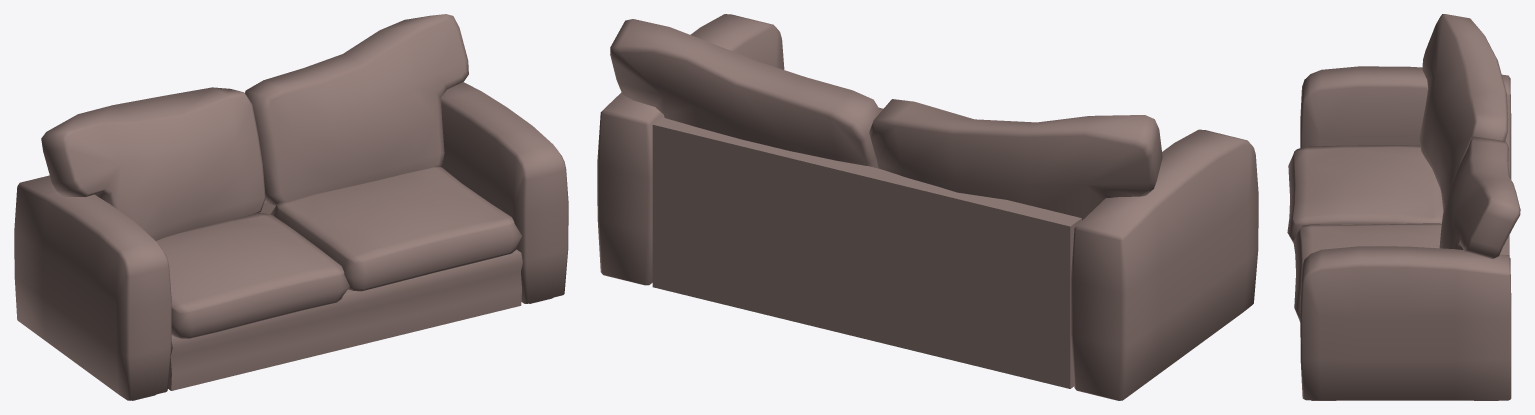
Rendered from sofa.glb.
The picture shows the model from 3 angles, left to right: view 1: azimuth 30°, elevation 25°; view 2: azimuth 150°, elevation 25°; view 3: azimuth 270°, elevation 25°; orthographic projection. The views are drawn at different scales.
Visible parts, largest first — view 1: mesh_10_228.nr; view 2: mesh_10_228.nr; view 3: mesh_10_228.nr.
Boxes of the visible parts, left/top/right/bottom form: mesh_10_228.nr: left=14, top=14, right=568, bottom=400; mesh_10_228.nr: left=597, top=14, right=1258, bottom=400; mesh_10_228.nr: left=1287, top=14, right=1520, bottom=400.
Size of the model in its own units: 2.66 by 1.24 by 1.3.
